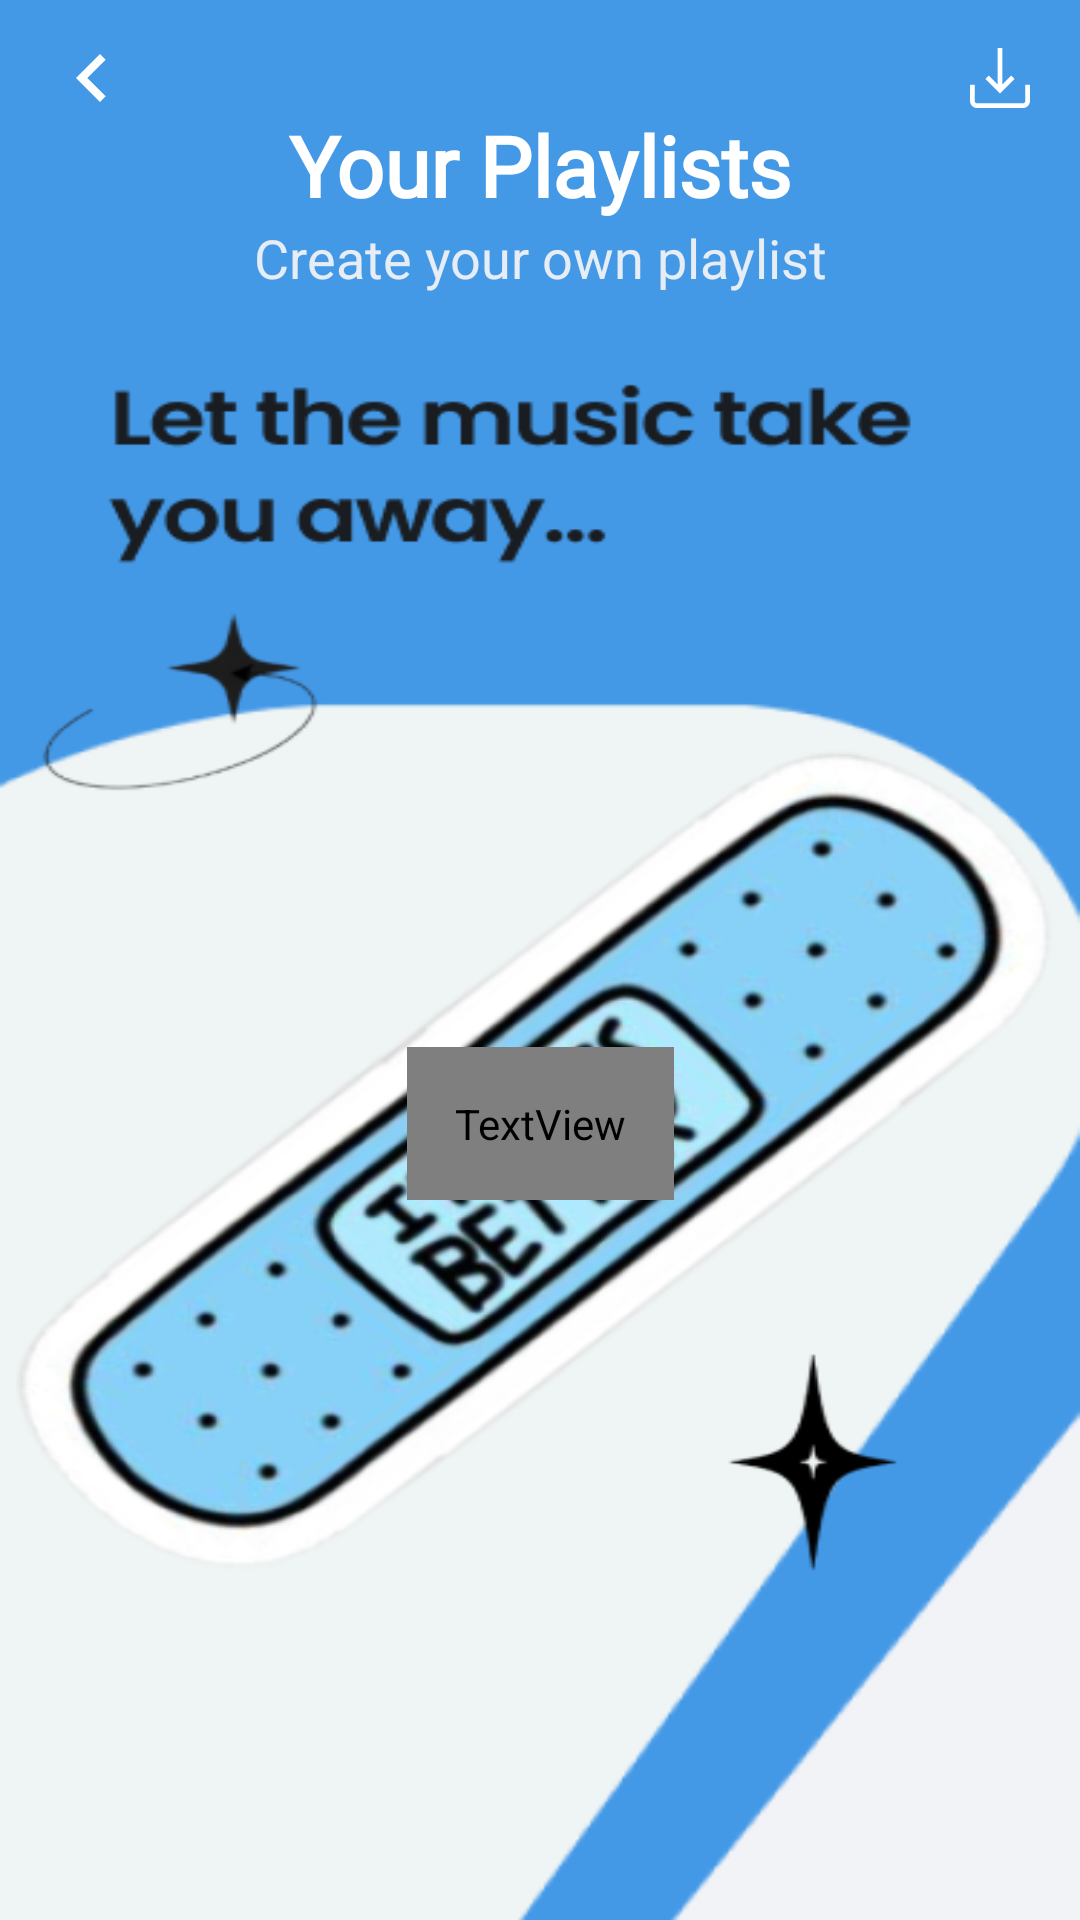

Point at icon controls on the screen. Image size 1080*1920, points as (x,y).
back: (91,78)
download: (1000,78)
